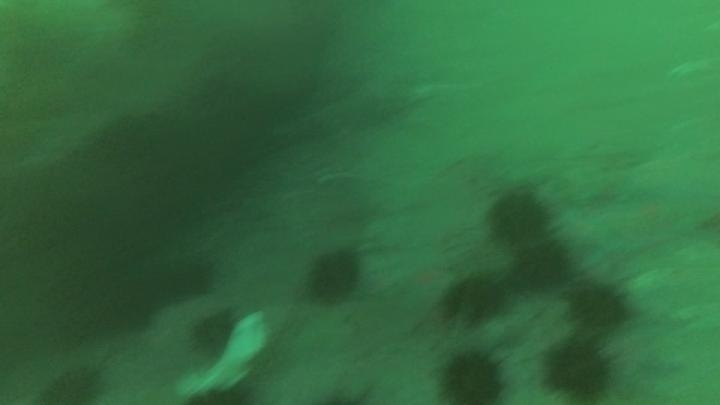echinus: (541, 337, 615, 402), (437, 347, 508, 405), (485, 187, 552, 245), (441, 273, 508, 326), (305, 246, 364, 306), (567, 281, 631, 331), (514, 239, 571, 290), (39, 363, 107, 404), (188, 308, 239, 360), (161, 257, 215, 303)
